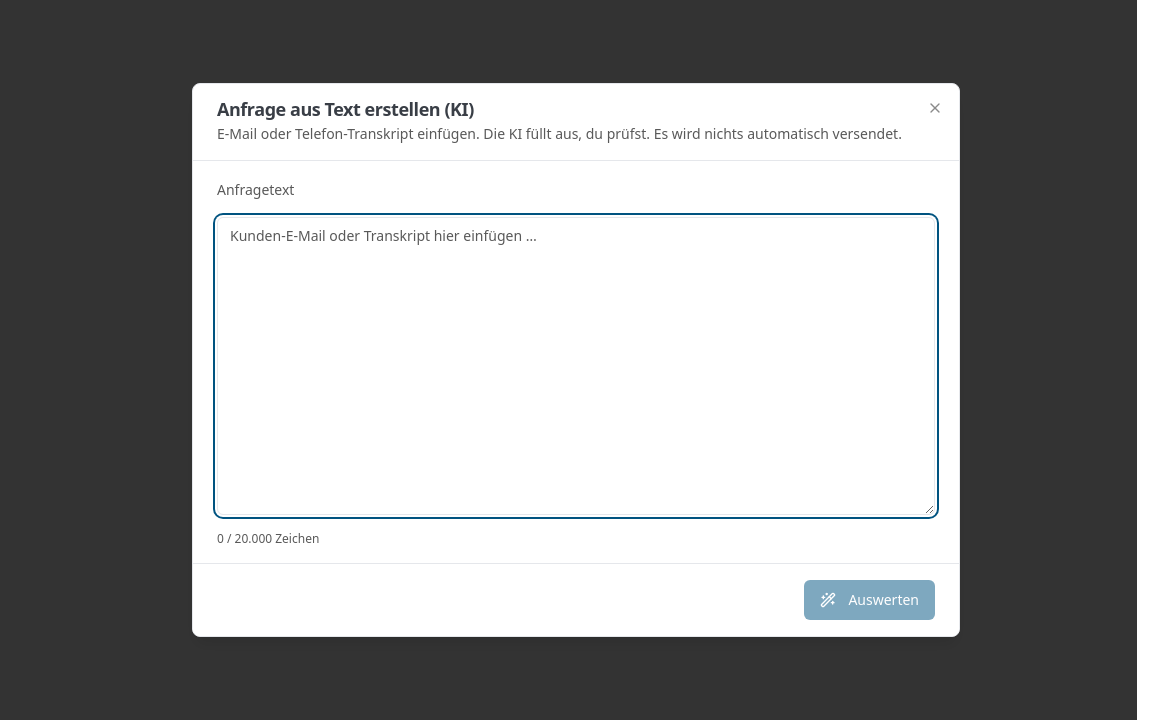
Test: KI-Anfrage-Import – Prüfansicht › zeigt Serverfehler verständlich an und behält den Text
Type "Lena: Guten Tag ... Anrufer: Sabine Müller, Kofferanhänger nächsten Samstag, sabine.m@gmx.de" into the text box labelled "Anfragetext" at [576, 366], box [217,217,935,515]
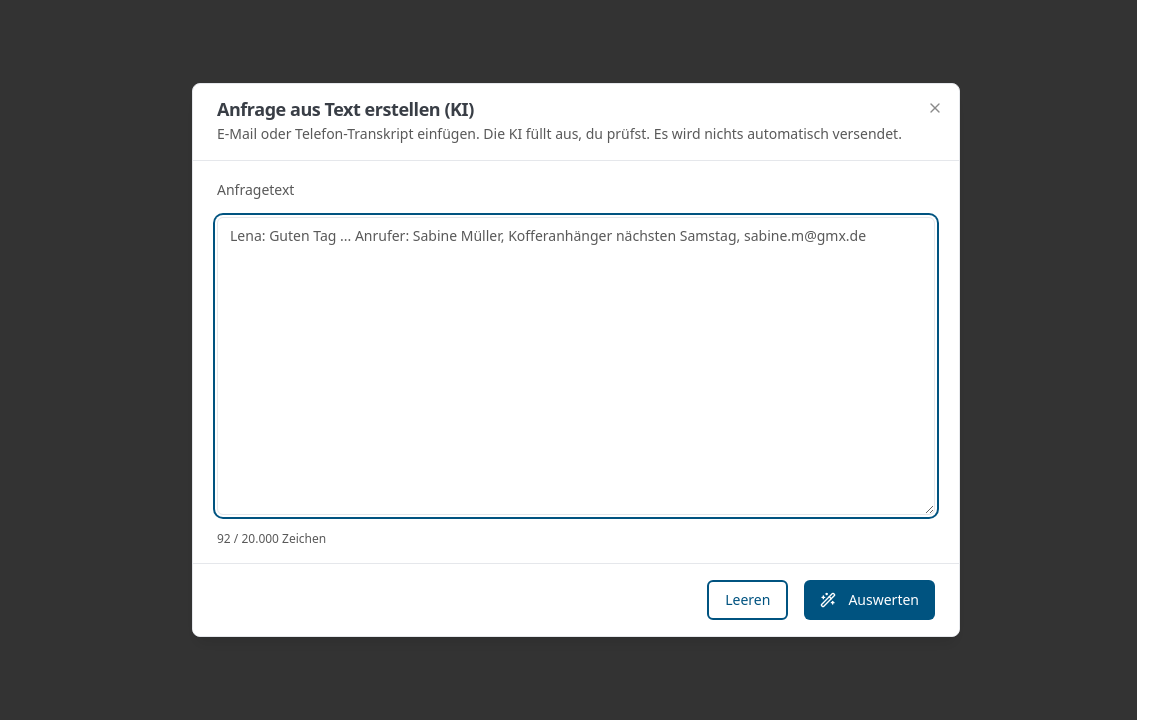
Click the button "Auswerten" at [870, 600], box [804,580,935,620]
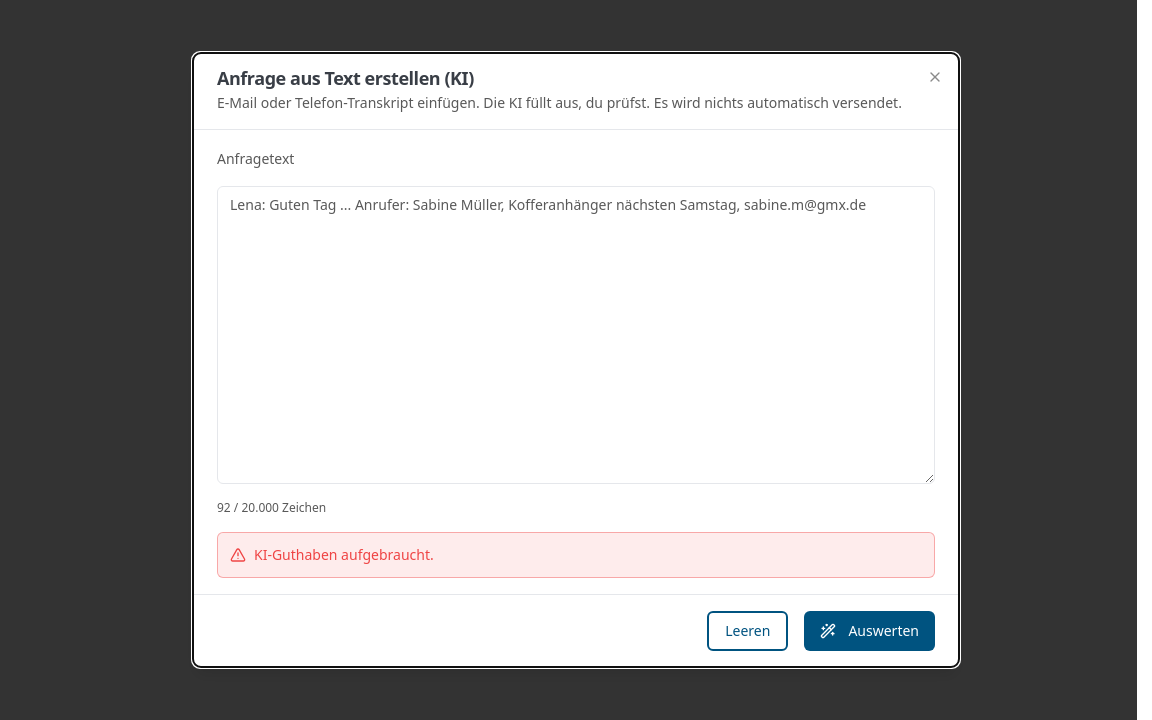
Check: the text "KI-Guthaben aufgebraucht." is shown, box [217,532,935,578]
